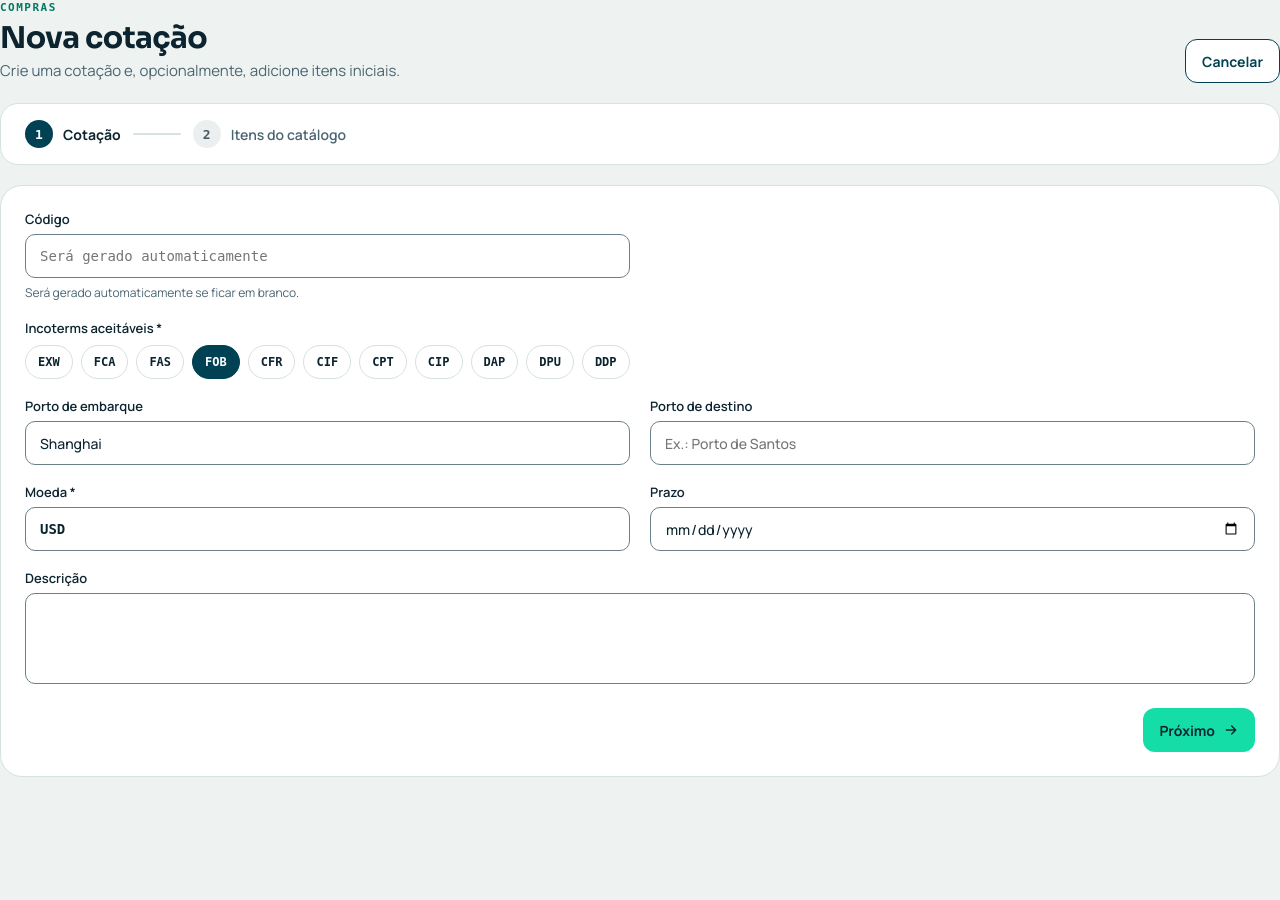
Test: CotacaoNova › 2. step 2 + clique em "Adicionar item": abre com título "Adicionar item do catálogo"
The width and height of the screenshot is (1280, 900).
Click the button "Próximo" at (1199, 730), box x1=1143 y1=708 x2=1255 y2=752
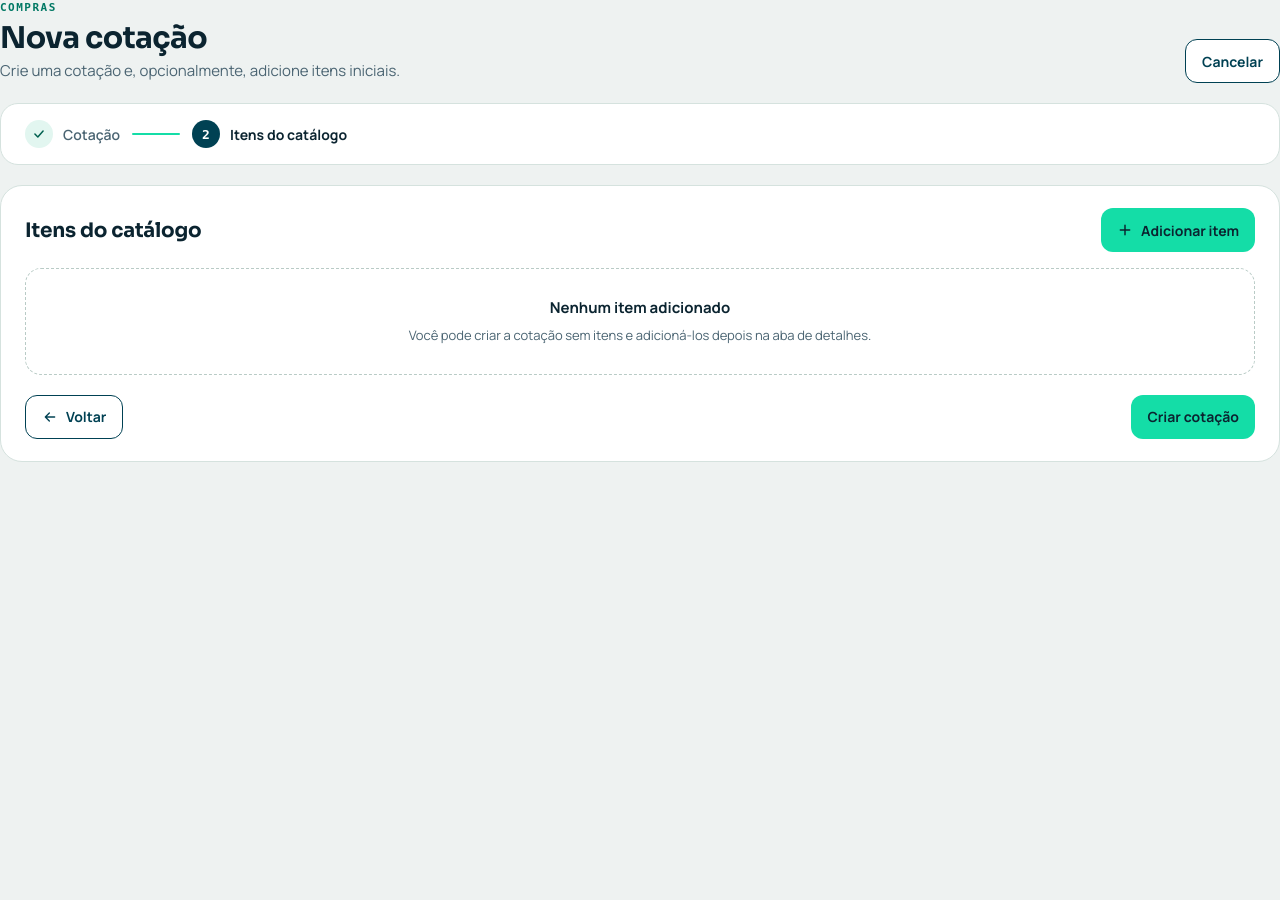
Expected: the button "Adicionar item" is enabled
Click the button "Adicionar item" at (1178, 230), box x1=1101 y1=208 x2=1255 y2=252
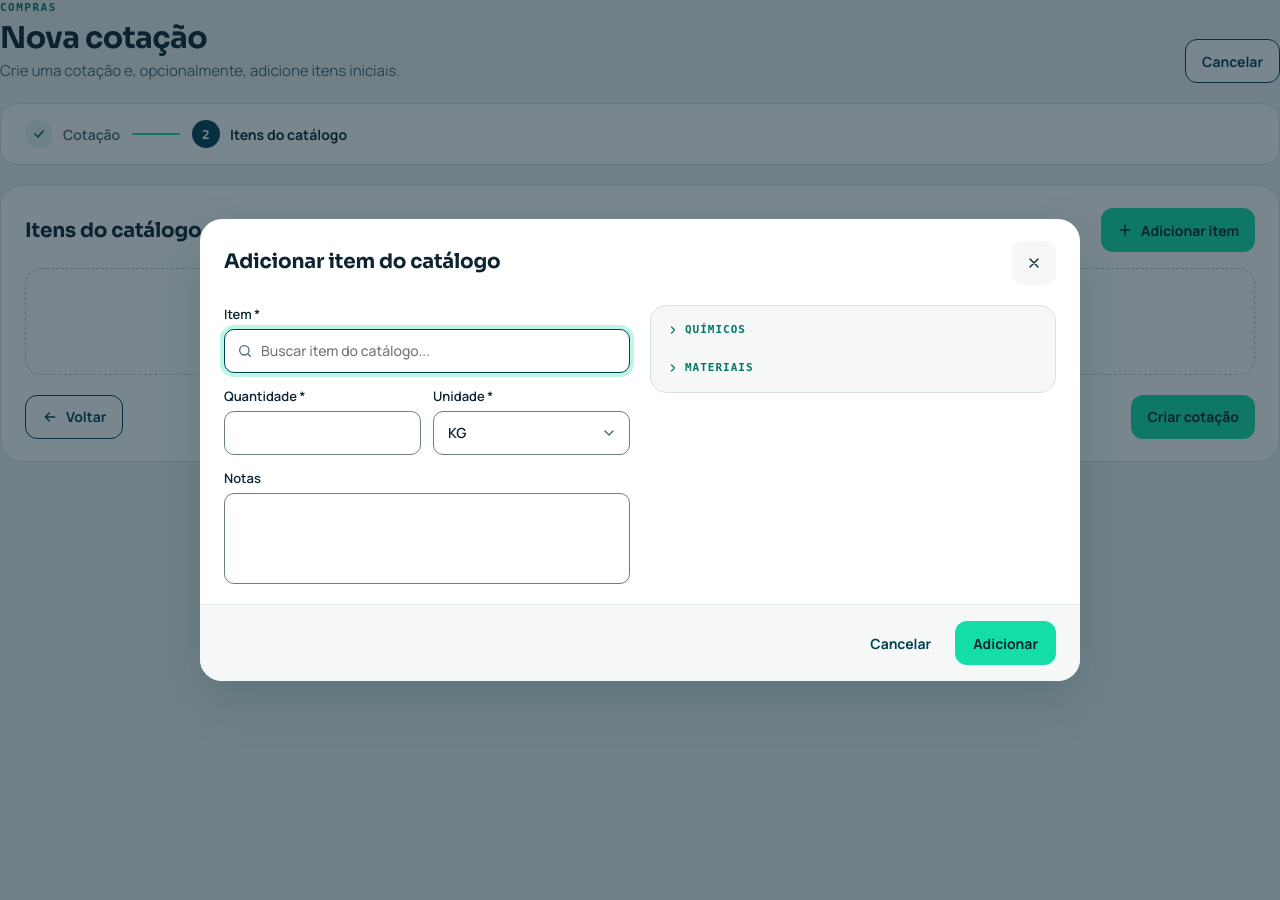
Expected: the heading "Adicionar item do catálogo" is shown, x1=224 y1=241 x2=500 y2=275
